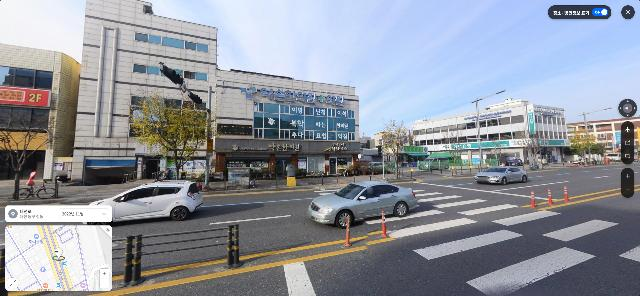ginkgo: (125, 81, 209, 181), (373, 118, 416, 180), (568, 133, 605, 165)
other: (0, 100, 55, 200), (439, 127, 472, 175), (479, 124, 505, 168), (519, 129, 547, 169)
